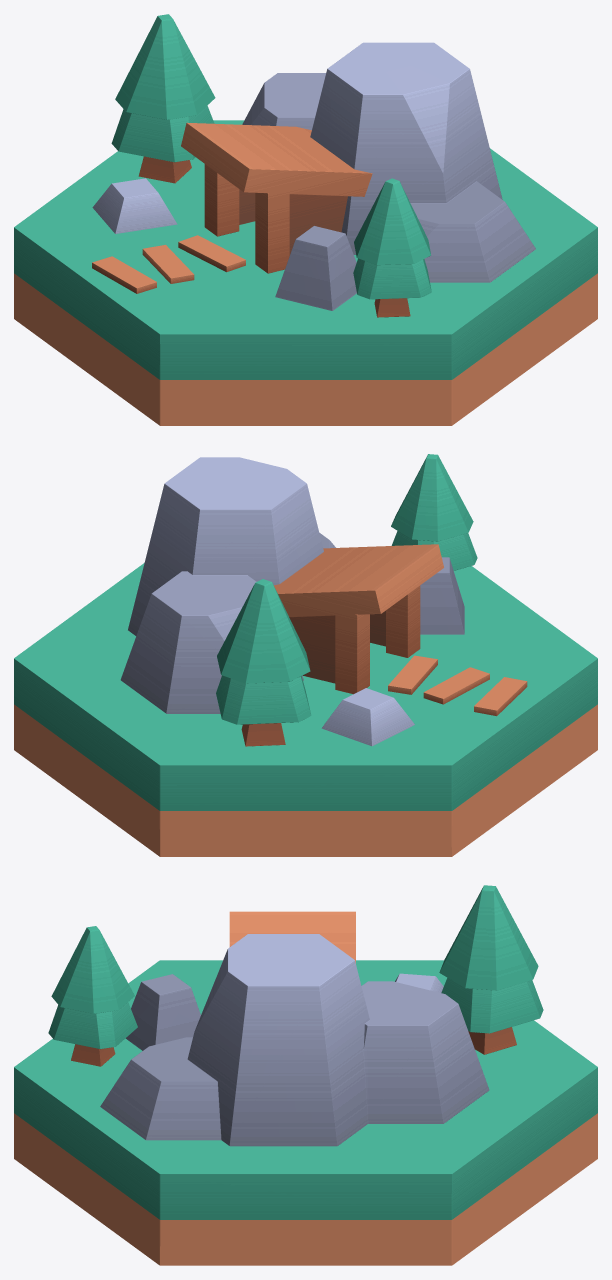
The model's file is kenney-hexagon__building-mine.glb.
3 views of the same model, one above another, from view 1: azimuth 30°, elevation 25°; view 2: azimuth 150°, elevation 25°; view 3: azimuth 270°, elevation 25° (orthographic).
Parts seen in each view (by area): view 1: building-mine; view 2: building-mine; view 3: building-mine.
Part boxes in pixels (<box>): building-mine: <box>14,14,597,425</box>; building-mine: <box>14,454,597,856</box>; building-mine: <box>14,885,597,1265</box>.
Bounding box in the file's own units: 1 × 0.5382 × 1.15.
1 material, 1 textured.
